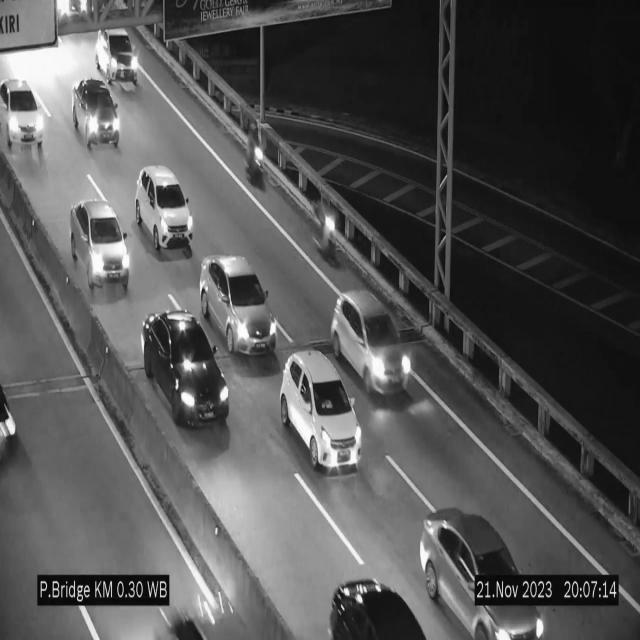Car: (414, 491, 553, 640), (140, 300, 230, 446), (280, 351, 362, 469), (330, 290, 414, 394), (329, 565, 437, 640), (200, 256, 276, 356), (70, 200, 130, 293), (136, 166, 193, 253), (85, 14, 151, 86), (0, 73, 48, 154), (73, 73, 121, 148)
Motorcycle: (315, 182, 340, 268), (244, 116, 268, 196)
